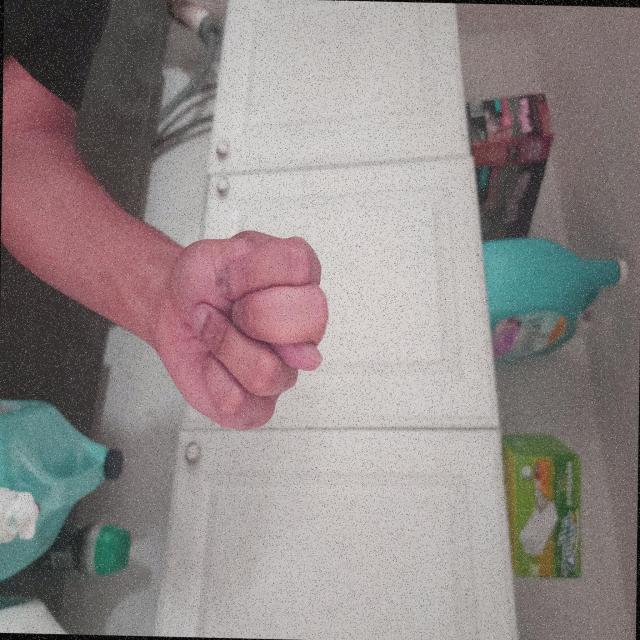N: (325, 411, 488, 640)
